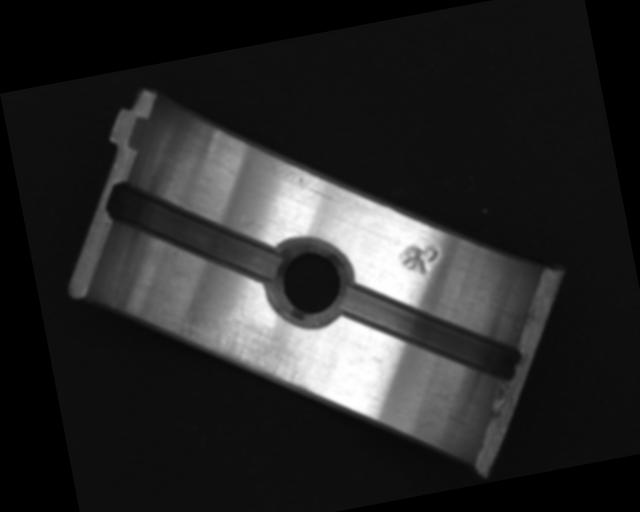bruise: (395, 239, 444, 283)
gap: (339, 256, 522, 408), (102, 159, 284, 309)
hole: (260, 230, 362, 333)
scratch: (165, 291, 316, 419)
